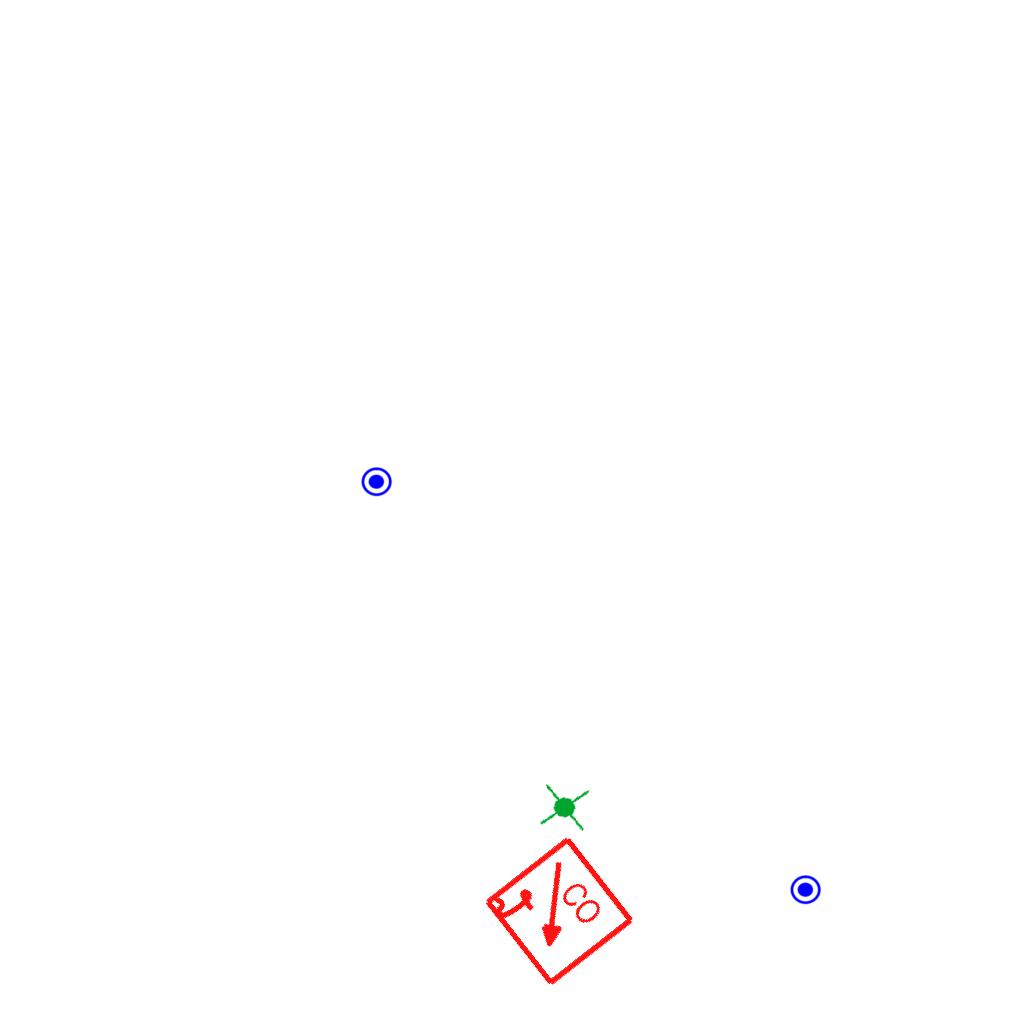Notlichtbaustein_in_Allgemeinbeleuchtug_engebaut_Einbau_(1UG_und_2UG_Aufbauvaria: (535, 778, 594, 838)
ROA_Rauchmelder_optisch_mit_Signalgeber_(Sockelsirene): (479, 833, 638, 992)
Taster: (360, 464, 393, 497), (789, 872, 822, 905)
